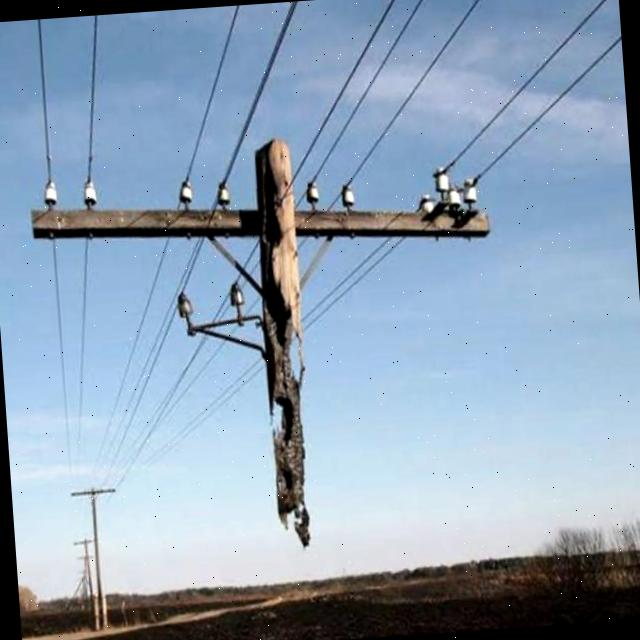Broken Pole: (30, 137, 489, 545)
